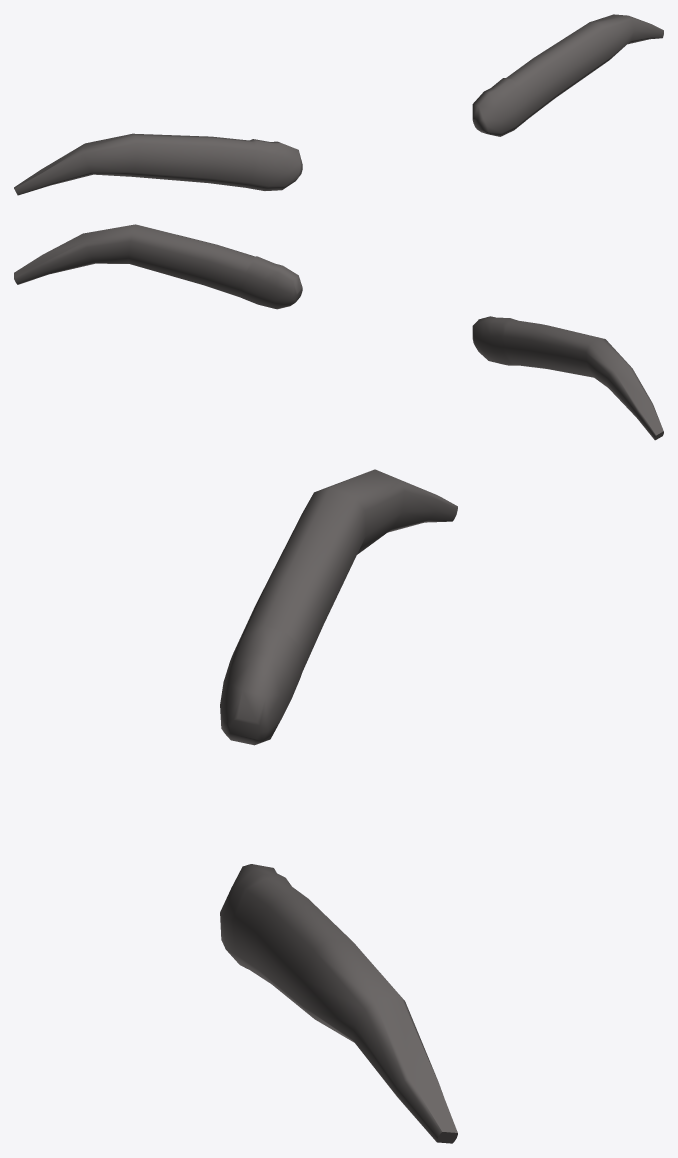
The model's file is Eyebrows_15_04.fbx.
3 views of the same model, one above another, from view 1: azimuth 30°, elevation 25°; view 2: azimuth 150°, elevation 25°; view 3: azimuth 270°, elevation 25° (orthographic). The views are drawn at different scales.
Parts seen in each view (by area): view 1: Eyebrows_15_04; view 2: Eyebrows_15_04; view 3: Eyebrows_15_04.
Boxes of the visible parts, bbox=[...] form: Eyebrows_15_04: bbox=[14, 14, 663, 195]; Eyebrows_15_04: bbox=[14, 224, 663, 440]; Eyebrows_15_04: bbox=[220, 469, 457, 1143].
Size of the model in its own units: 19.15 by 1.93 by 3.04.
